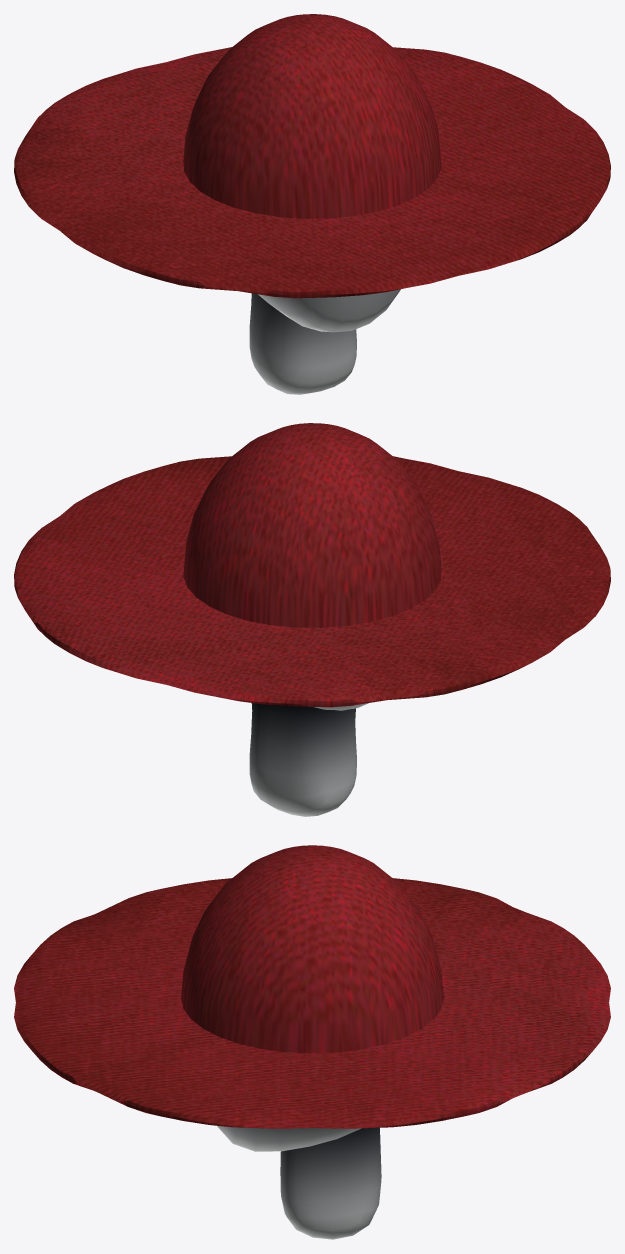
The model's file is maestro_head.glb.
3 views of the same model, one above another, from view 1: azimuth 30°, elevation 25°; view 2: azimuth 150°, elevation 25°; view 3: azimuth 270°, elevation 25° (orthographic).
Visible parts, largest first — view 1: Sphere, Cube.001, Cube.002; view 2: Sphere, Cube.001; view 3: Sphere, Cube.001, Cube.002.
Part boxes in pixels (x1,y1,x2,y2): Sphere: (14, 14, 610, 298); Cube.001: (249, 293, 356, 394); Cube.002: (258, 289, 400, 332); Sphere: (14, 423, 610, 707); Cube.001: (249, 703, 356, 816); Sphere: (14, 845, 610, 1128); Cube.001: (280, 1127, 381, 1239); Cube.002: (217, 1126, 361, 1151).
Size of the model in its own units: 0.7239 by 0.5035 by 0.7239.
Materials: 1 (1 with a texture image).
